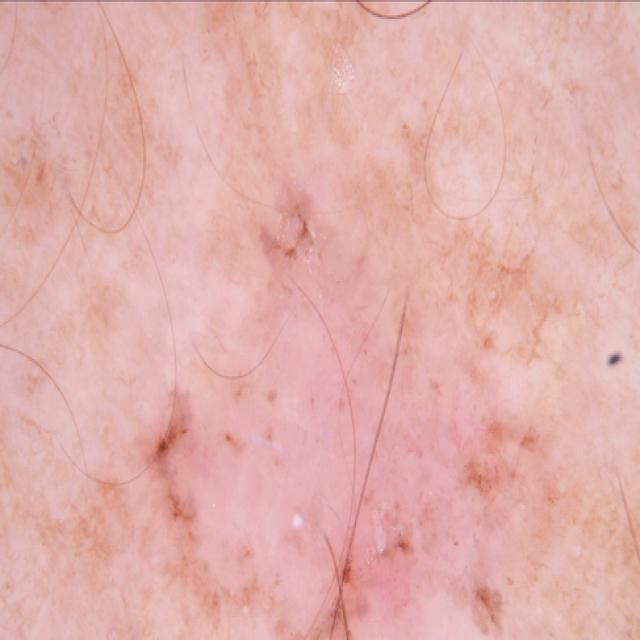Carcinoma: (117, 207, 568, 640)
